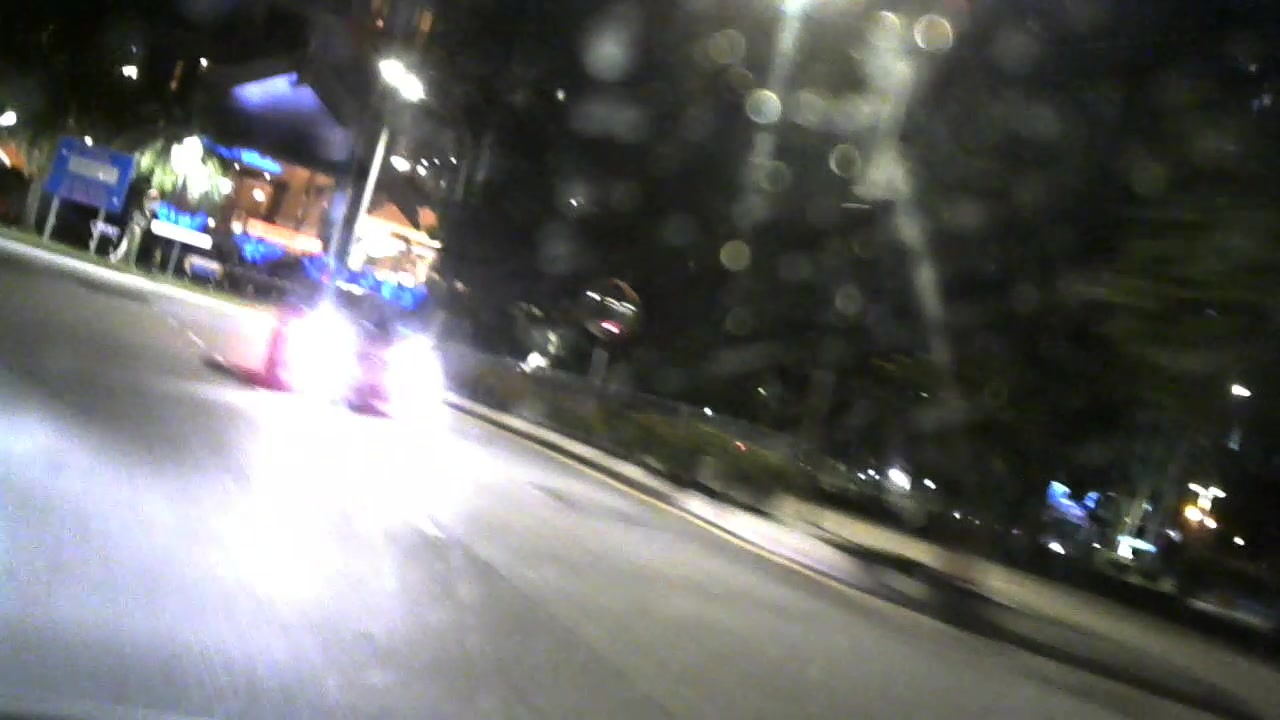Car: (260, 277, 443, 422)
